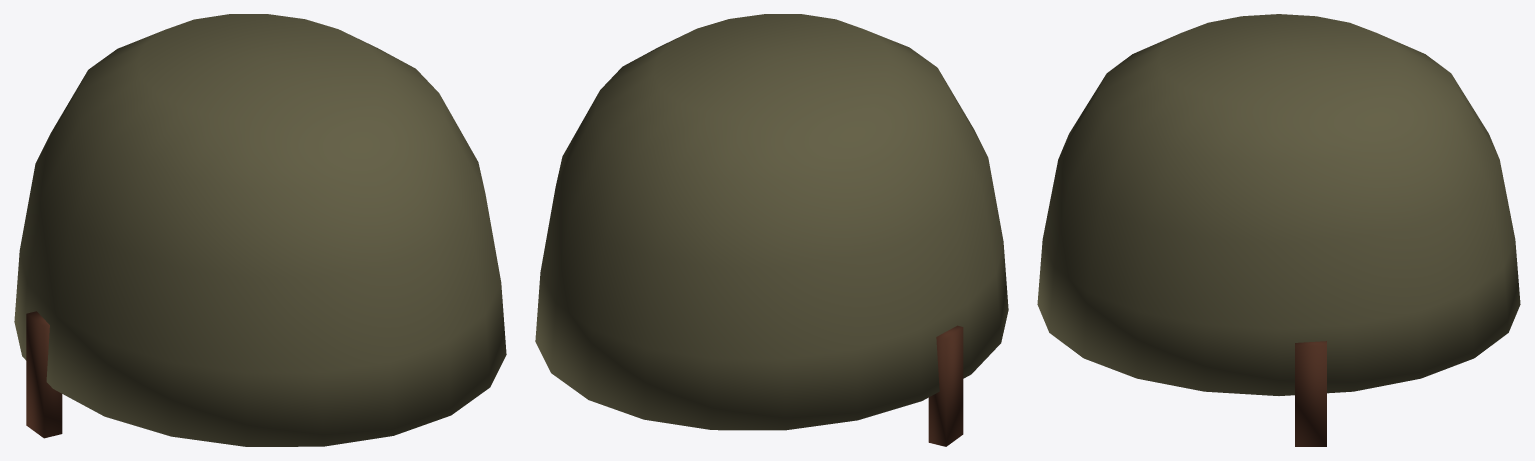
File: tpl_hall_elmetti_m1_worn.glb
The picture shows the model from 3 angles, left to right: view 1: azimuth 30°, elevation 25°; view 2: azimuth 150°, elevation 25°; view 3: azimuth 270°, elevation 25°; orthographic projection. The views are drawn at different scales.
Visible parts, largest first — view 1: tpl_hall_elmetti_m1_worn; view 2: tpl_hall_elmetti_m1_worn; view 3: tpl_hall_elmetti_m1_worn.
Part boxes in pixels (left/top/right/bottom): tpl_hall_elmetti_m1_worn: left=14, top=14, right=506, bottom=446; tpl_hall_elmetti_m1_worn: left=535, top=14, right=1008, bottom=446; tpl_hall_elmetti_m1_worn: left=1037, top=14, right=1520, bottom=446.
Size of the model in its own units: 0.272 by 0.21 by 0.3024.
